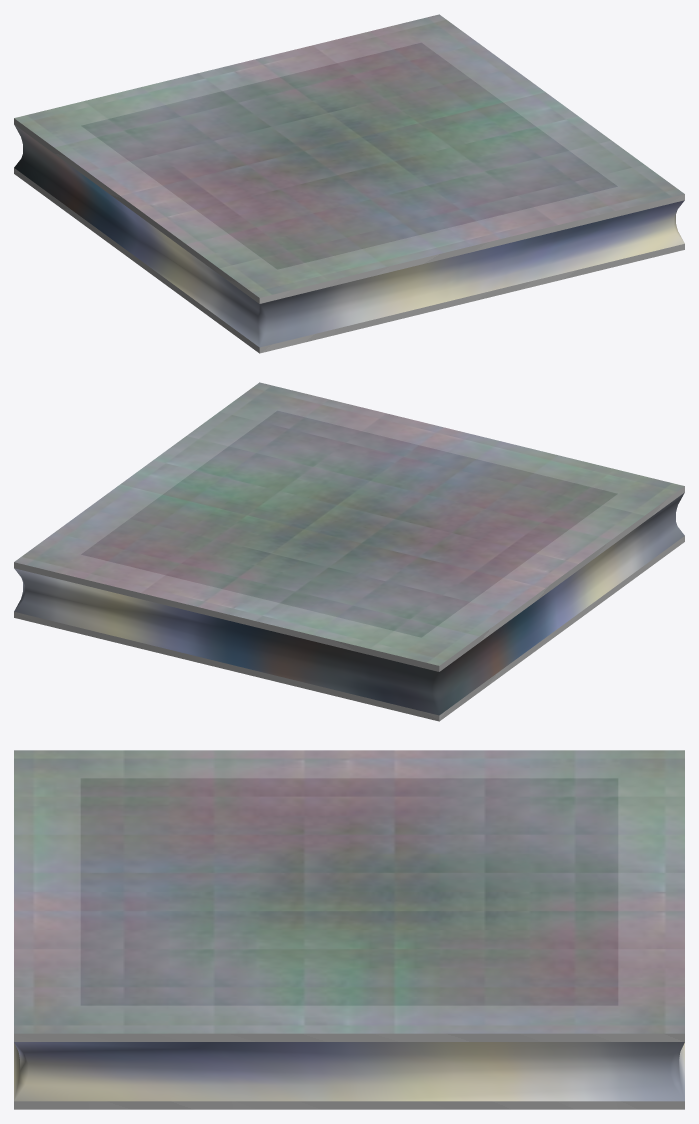
The model's file is platform.obj.
3 views of the same model, one above another, from view 1: azimuth 30°, elevation 25°; view 2: azimuth 150°, elevation 25°; view 3: azimuth 270°, elevation 25° (orthographic). The views are drawn at different scales.
Visible parts, largest first — view 1: cube1_mtrl/turf-shiny, cube1_mtrl/turf-shiny-light, cube1_mtrl/chrome, cube1_mtrl/rail; view 2: cube1_mtrl/turf-shiny, cube1_mtrl/turf-shiny-light, cube1_mtrl/chrome, cube1_mtrl/rail; view 3: cube1_mtrl/turf-shiny, cube1_mtrl/turf-shiny-light, cube1_mtrl/chrome, cube1_mtrl/rail.
Part boxes in pixels (x1,y1,x2,y2): cube1_mtrl/turf-shiny: (81, 42, 617, 269); cube1_mtrl/turf-shiny-light: (14, 14, 684, 297); cube1_mtrl/chrome: (14, 124, 684, 347); cube1_mtrl/rail: (14, 118, 684, 353); cube1_mtrl/turf-shiny: (81, 410, 617, 637); cube1_mtrl/turf-shiny-light: (14, 382, 684, 665); cube1_mtrl/chrome: (14, 492, 684, 715); cube1_mtrl/rail: (14, 486, 684, 721); cube1_mtrl/turf-shiny: (80, 778, 618, 1005); cube1_mtrl/turf-shiny-light: (14, 750, 684, 1033); cube1_mtrl/chrome: (14, 1042, 684, 1101); cube1_mtrl/rail: (14, 1033, 684, 1109).
Size of the model in its own units: 2 by 0.25 by 2.
